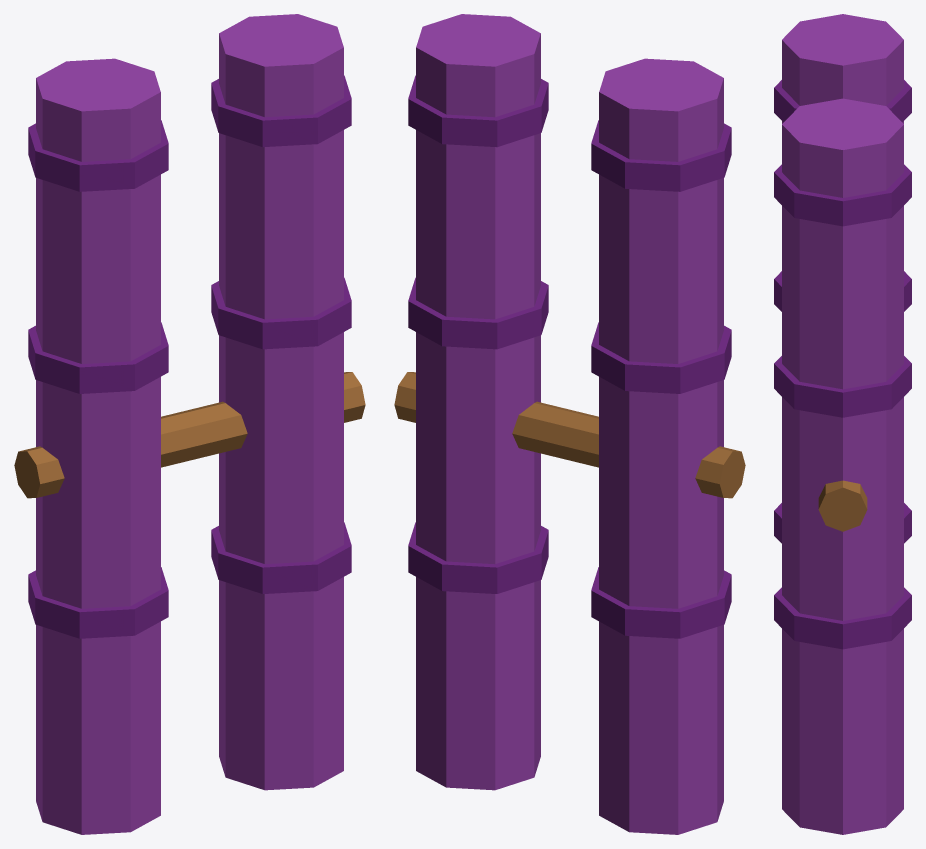
File: harvest_drop_sugarcane.glb
The picture shows the model from 3 angles, left to right: view 1: azimuth 30°, elevation 25°; view 2: azimuth 150°, elevation 25°; view 3: azimuth 270°, elevation 25°; orthographic projection. The views are drawn at different scales.
Parts seen in each view (by area): view 1: FTF_Harvest_Drop_Sugarcane_Bundle_Mesh; view 2: FTF_Harvest_Drop_Sugarcane_Bundle_Mesh; view 3: FTF_Harvest_Drop_Sugarcane_Bundle_Mesh.
Boxes of the visible parts, x1,y1,x2,y2 form: FTF_Harvest_Drop_Sugarcane_Bundle_Mesh: (14,14,365,834); FTF_Harvest_Drop_Sugarcane_Bundle_Mesh: (394,14,745,834); FTF_Harvest_Drop_Sugarcane_Bundle_Mesh: (774,14,911,834).
Bounding box in the file's own units: 0.32 × 0.68 × 0.124.
